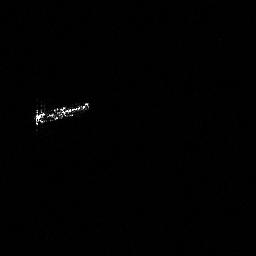ship: (31, 97, 92, 129)
